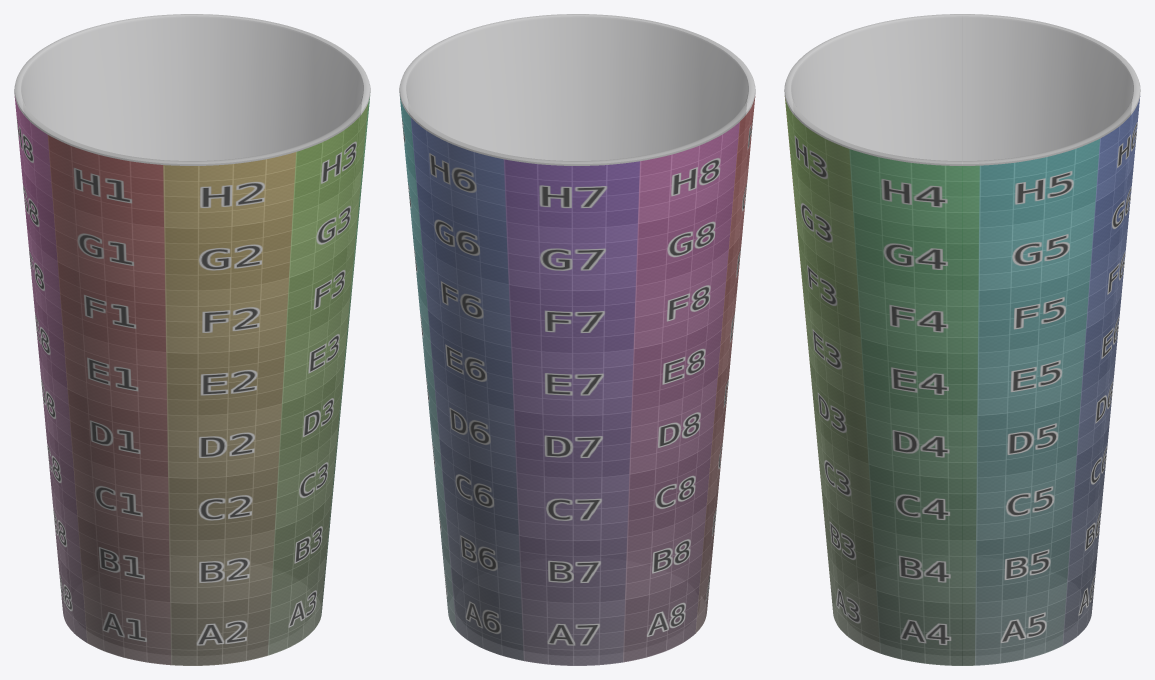
File: Gobelet 25 33.glb
3 views of the same model, side by side, from view 1: azimuth 30°, elevation 25°; view 2: azimuth 150°, elevation 25°; view 3: azimuth 270°, elevation 25° (orthographic).
Parts seen in each view (by area): view 1: Cylinder; view 2: Cylinder; view 3: Cylinder.
Part boxes in pixels (x1=…): Cylinder: x1=14, y1=14, x2=370, y2=665; Cylinder: x1=399, y1=14, x2=755, y2=665; Cylinder: x1=784, y1=14, x2=1140, y2=665.
Size of the model in its own units: 0.0714 by 0.1158 by 0.0714.
2 materials, 1 textured.
